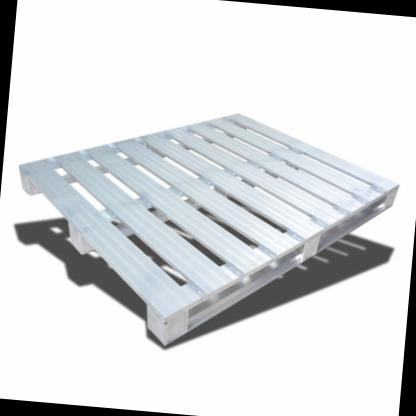BoxFace: (19, 114, 402, 351)
